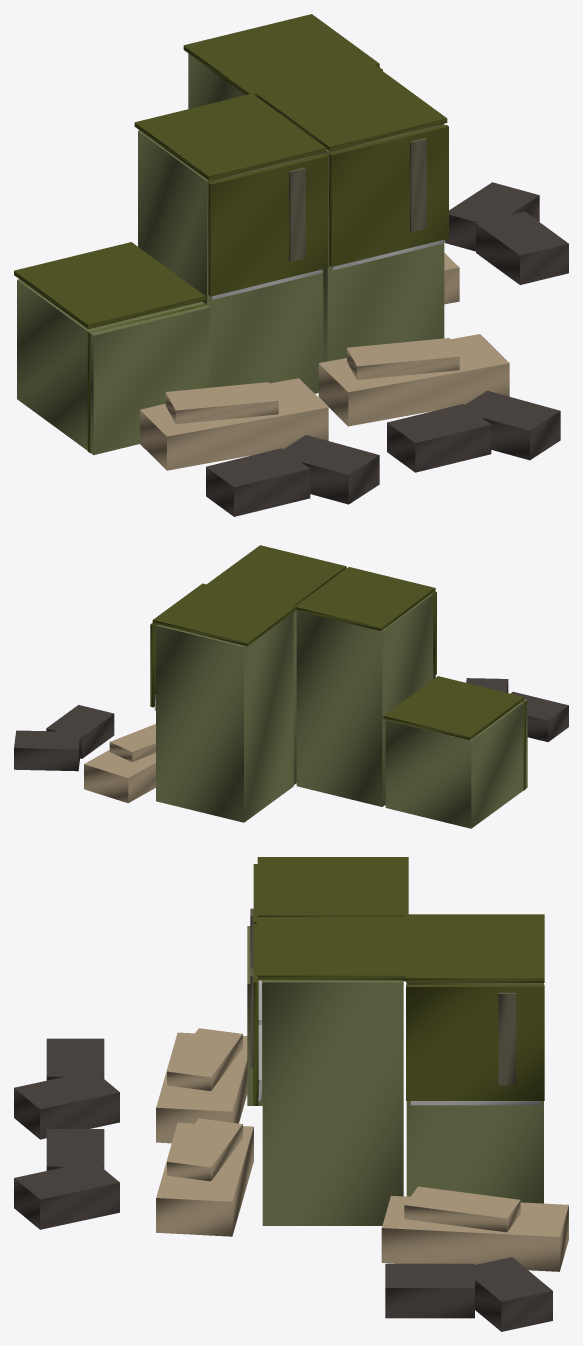
The model's file is SM_HescoRemateEspejo_v4_Red_e1_Danado_LOD1.fbx.
3 renders of one model, top to bottom at view 1: azimuth 30°, elevation 25°; view 2: azimuth 150°, elevation 25°; view 3: azimuth 270°, elevation 25°, orthographic. The views are drawn at different scales.
Parts seen in each view (by area): view 1: SM_hesco_piezas_v37_LOD1; view 2: SM_hesco_piezas_v37_LOD1; view 3: SM_hesco_piezas_v37_LOD1.
Boxes of the visible parts, left/top/right/bottom form: SM_hesco_piezas_v37_LOD1: left=14, top=14, right=568, bottom=516; SM_hesco_piezas_v37_LOD1: left=14, top=545, right=568, bottom=828; SM_hesco_piezas_v37_LOD1: left=14, top=857, right=568, bottom=1331.
Size of the model in its own units: 5.25 by 2.16 by 4.33.
